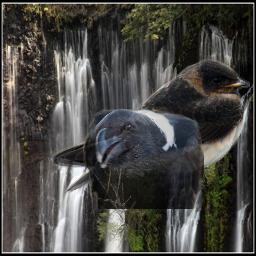Crow: (83, 108, 204, 209)
Swallow: (52, 59, 250, 195)
